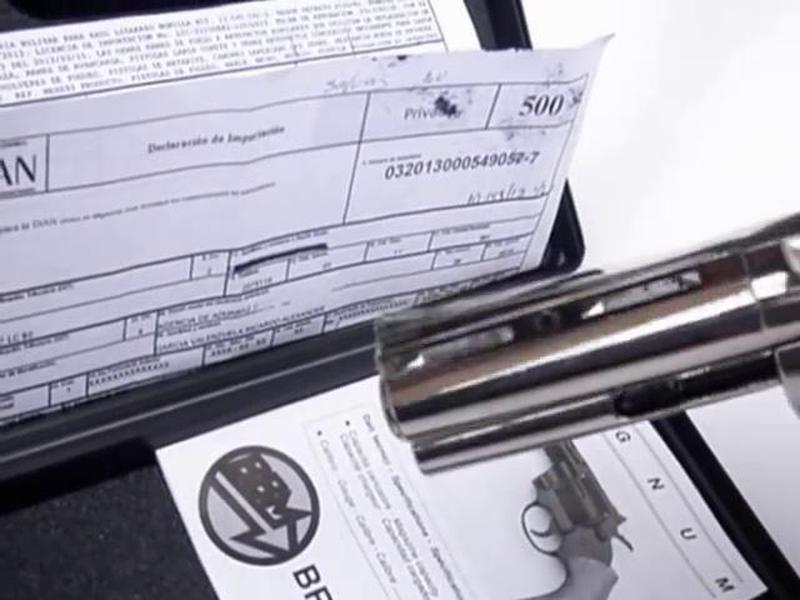Revolver: (359, 164, 800, 481)
